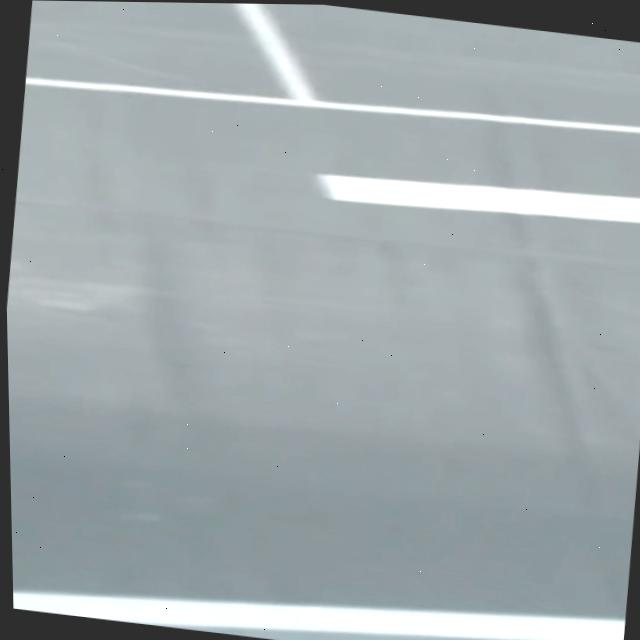center: (318, 174, 640, 222)
left: (13, 591, 625, 640)
